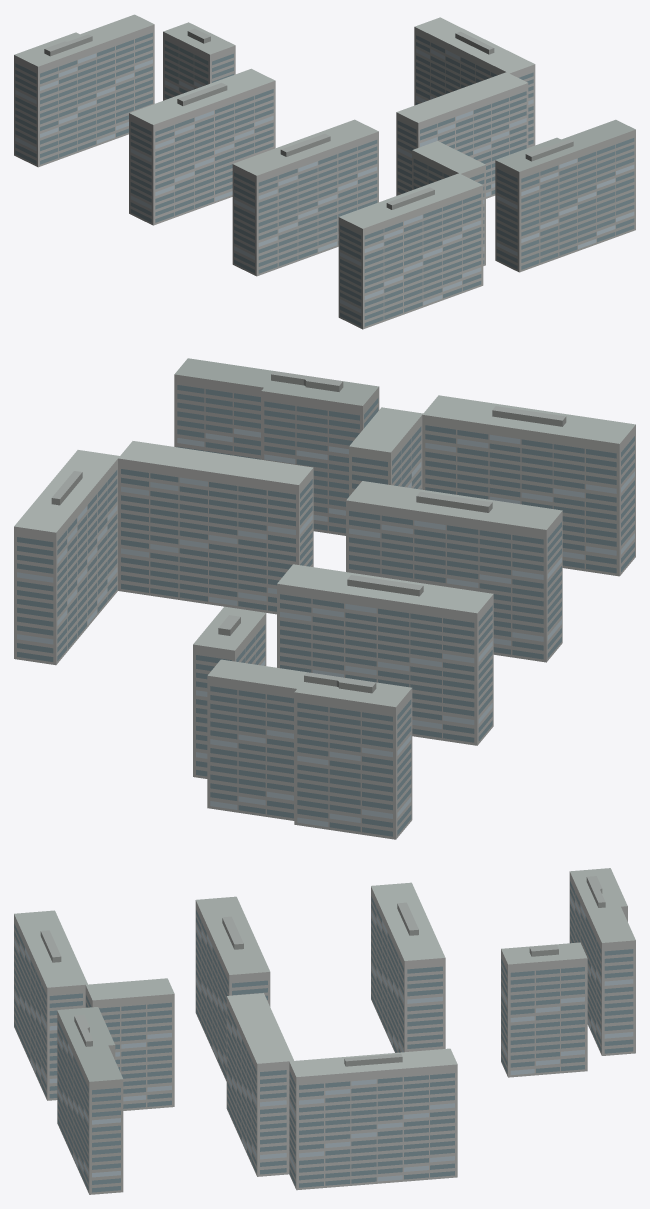
Rendered from apt-a13523004.glb.
The picture shows the model from 3 angles, top to bottom: view 1: azimuth 30°, elevation 25°; view 2: azimuth 150°, elevation 25°; view 3: azimuth 270°, elevation 25°; orthographic projection. The views are drawn at different scales.
Visible parts, largest first — view 1: apt-a13523004; view 2: apt-a13523004; view 3: apt-a13523004.
Part boxes in pixels (x1=…): apt-a13523004: x1=14, y1=14, x2=635, y2=329; apt-a13523004: x1=14, y1=358, x2=635, y2=839; apt-a13523004: x1=14, y1=868, x2=635, y2=1194.
Size of the model in its own units: 159 by 41 by 195.
